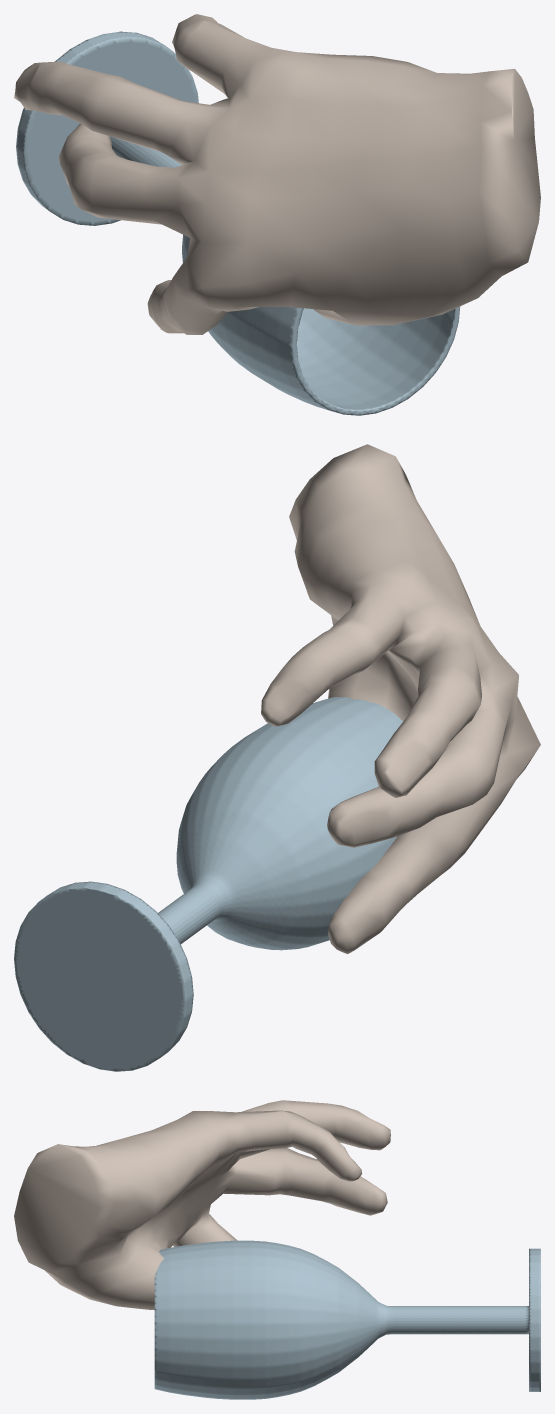
File: ours_2.glb
3 renders of one model, top to bottom at view 1: azimuth 30°, elevation 25°; view 2: azimuth 150°, elevation 25°; view 3: azimuth 270°, elevation 25°, orthographic. The views are drawn at different scales.
Bounding box in the file's own units: 0.1203 × 0.1334 × 0.2346.
